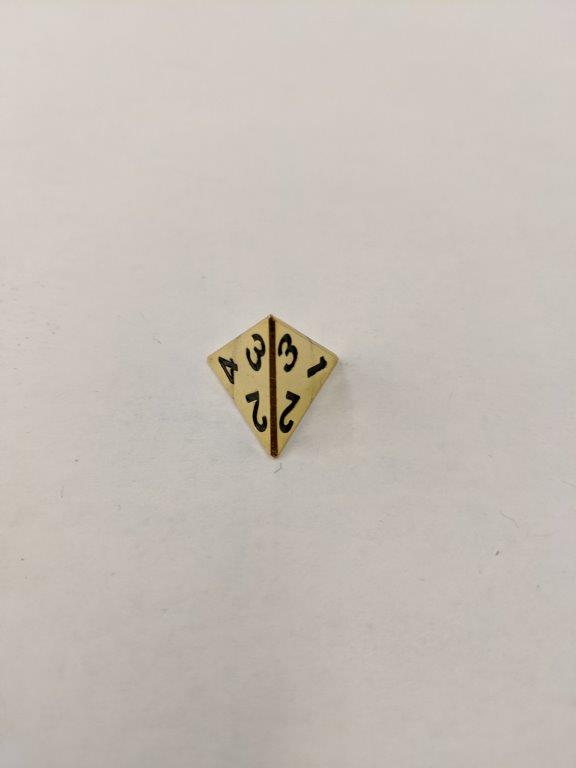d4-3: (202, 312, 342, 461)
